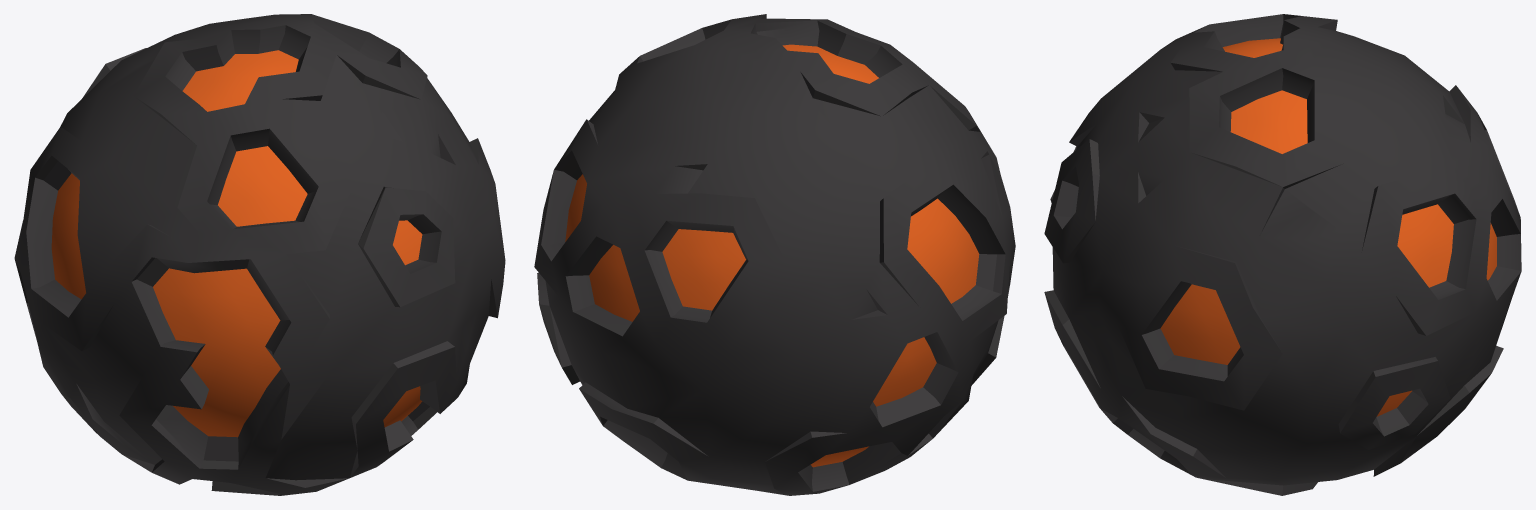
File: Planeta_6.fbx
3 renders of one model, left to right at view 1: azimuth 30°, elevation 25°; view 2: azimuth 150°, elevation 25°; view 3: azimuth 270°, elevation 25°, orthographic. The views are drawn at different scales.
Parts seen in each view (by area): view 1: Toy_Planet_7; view 2: Toy_Planet_7; view 3: Toy_Planet_7.
Boxes of the visible parts, x1,y1,x2,y2 form: Toy_Planet_7: [14, 14, 505, 495]; Toy_Planet_7: [534, 14, 1015, 495]; Toy_Planet_7: [1044, 14, 1521, 495].
Size of the model in its own units: 206 by 207 by 206.
